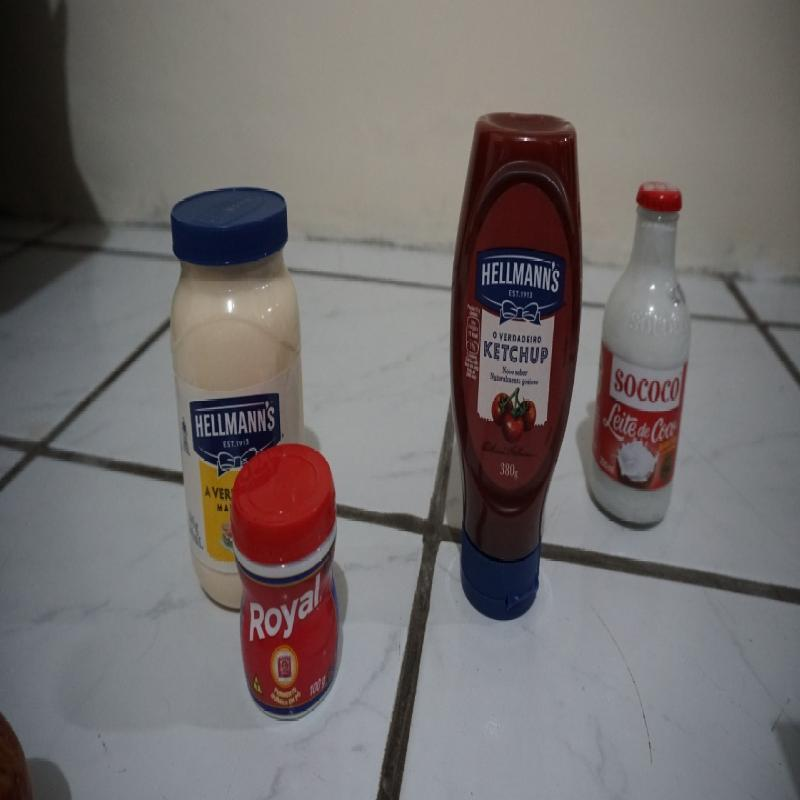Coconut Milk: (597, 166, 698, 536)
Ketchup: (449, 108, 584, 622)
Mayonnaise: (166, 192, 306, 438)
Yeast: (234, 447, 346, 717)
